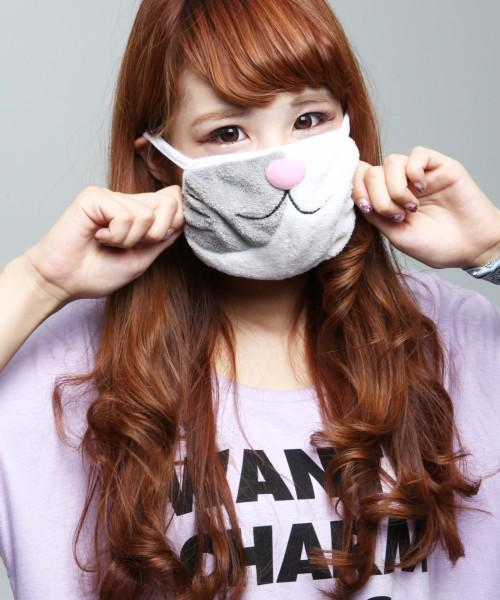OK: (178, 67, 386, 275)
